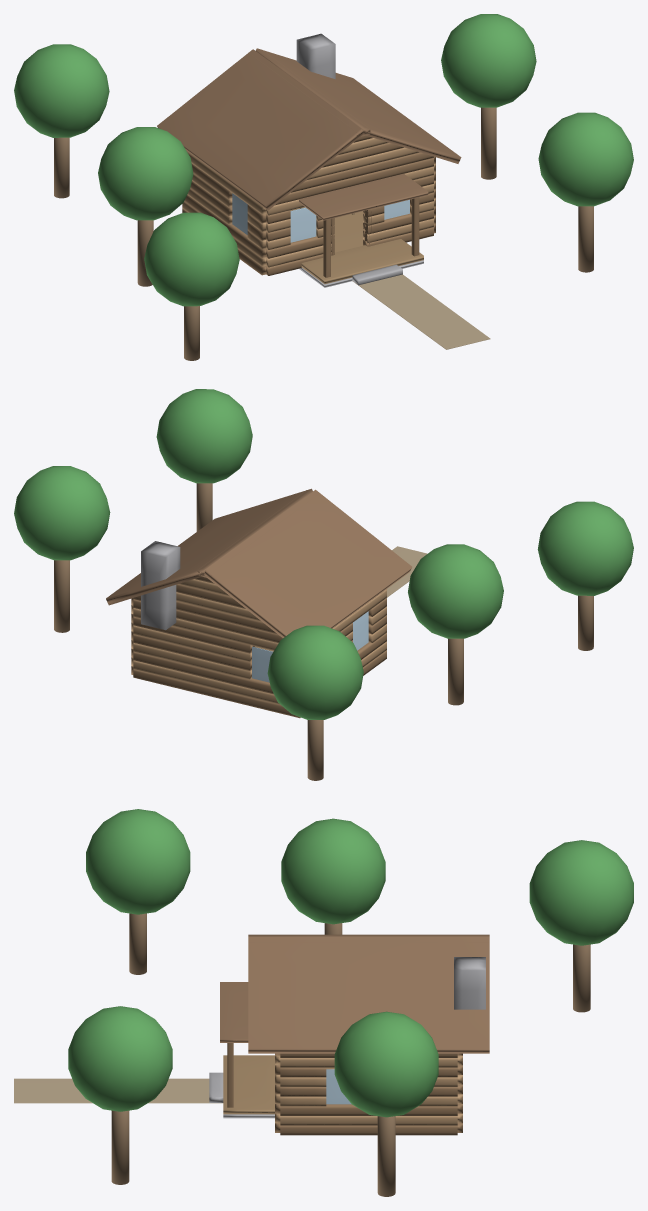
File: cabana_1_troncos_clasica.glb
3 views of the same model, one above another, from view 1: azimuth 30°, elevation 25°; view 2: azimuth 150°, elevation 25°; view 3: azimuth 270°, elevation 25° (orthographic). The views are drawn at different scales.
Visible parts, largest first — view 1: TechoIzq, Arbol4_Copa, Arbol5_Copa, Arbol1_Copa, Arbol3_Copa, Arbol2_Copa, Muro (×8), TechoDer, Camino, TechoPorche, Fronton (×3), Porche (+10 smaller); view 2: TechoIzq, Muro (×9), Arbol4_Copa, Arbol1_Copa, Arbol2_Copa, Arbol5_Copa, Arbol3_Copa, TechoDer, Chimenea, Fronton (×3), Arbol2_Tronco, Arbol1_Tronco (+5 smaller); view 3: TechoDer, Arbol3_Copa, Arbol5_Copa, Arbol2_Copa, Arbol1_Copa, Arbol4_Copa, Muro (×4), Camino, Porche, TechoPorche, Chimenea, Arbol2_Tronco (+5 smaller).
Boxes of the visible parts, left/top/right/bottom form: TechoIzq: left=157, top=49, right=364, bottom=210; Arbol4_Copa: left=538, top=112, right=633, bottom=206; Arbol5_Copa: left=144, top=212, right=239, bottom=306; Arbol1_Copa: left=98, top=127, right=193, bottom=220; Arbol3_Copa: left=14, top=44, right=109, bottom=137; Arbol2_Copa: left=441, top=14, right=536, bottom=107; Muro (×8): left=184, top=151, right=433, bottom=267; TechoDer: left=255, top=48, right=461, bottom=163; Camino: left=352, top=274, right=490, bottom=349; TechoPorche: left=299, top=173, right=428, bottom=220; Fronton (×3): left=291, top=143, right=433, bottom=192; Porche: left=301, top=239, right=423, bottom=283; TechoIzq: left=203, top=489, right=412, bottom=637; Muro (×9): left=133, top=599, right=300, bottom=718; Arbol4_Copa: left=156, top=389, right=252, bottom=483; Arbol1_Copa: left=408, top=544, right=503, bottom=638; Arbol2_Copa: left=14, top=466, right=110, bottom=560; Arbol5_Copa: left=537, top=501, right=633, bottom=595; Arbol3_Copa: left=267, top=625, right=363, bottom=719; TechoDer: left=106, top=488, right=312, bottom=605; Chimenea: left=141, top=541, right=180, bottom=630; Fronton (×3): left=133, top=584, right=277, bottom=634; Arbol2_Tronco: left=54, top=560, right=69, bottom=632; Arbol1_Tronco: left=448, top=638, right=463, bottom=705; TechoDer: left=248, top=936, right=489, bottom=1053; Arbol3_Copa: left=529, top=840, right=633, bottom=945; Arbol5_Copa: left=86, top=809, right=190, bottom=914; Arbol2_Copa: left=334, top=1011, right=438, bottom=1117; Arbol1_Copa: left=281, top=818, right=385, bottom=924; Arbol4_Copa: left=68, top=1006, right=172, bottom=1111; Muro (×4): left=280, top=1058, right=457, bottom=1135; Camino: left=14, top=1078, right=222, bottom=1103; Porche: left=223, top=1055, right=274, bottom=1114; TechoPorche: left=220, top=982, right=248, bottom=1042; Chimenea: left=454, top=957, right=485, bottom=1009; Arbol2_Tronco: left=377, top=1116, right=395, bottom=1196.
Size of what is drawn, in the model's own units: 1.15 by 0.3555 by 1.14.
